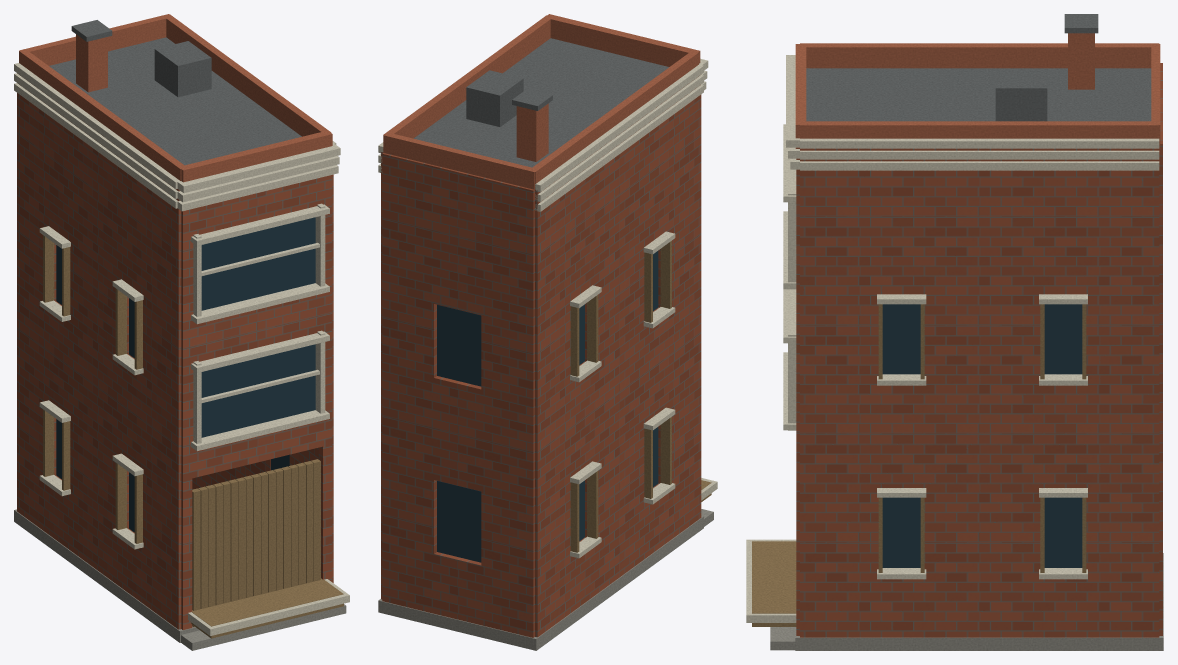
The model's file is WRHS2_lod2.glb.
3 views of the same model, side by side, from view 1: azimuth 30°, elevation 25°; view 2: azimuth 150°, elevation 25°; view 3: azimuth 270°, elevation 25° (orthographic). The views are drawn at different scales.
Parts seen in each view (by area): view 1: WRHS2_LOD2; view 2: WRHS2_LOD2; view 3: WRHS2_LOD2.
Part boxes in pixels (left/top/right/bottom): WRHS2_LOD2: left=14, top=14, right=349, bottom=650; WRHS2_LOD2: left=378, top=14, right=717, bottom=650; WRHS2_LOD2: left=746, top=14, right=1163, bottom=650.
Size of the model in its own units: 3.71 by 10.45 by 6.97.
8 materials, 6 textured.
